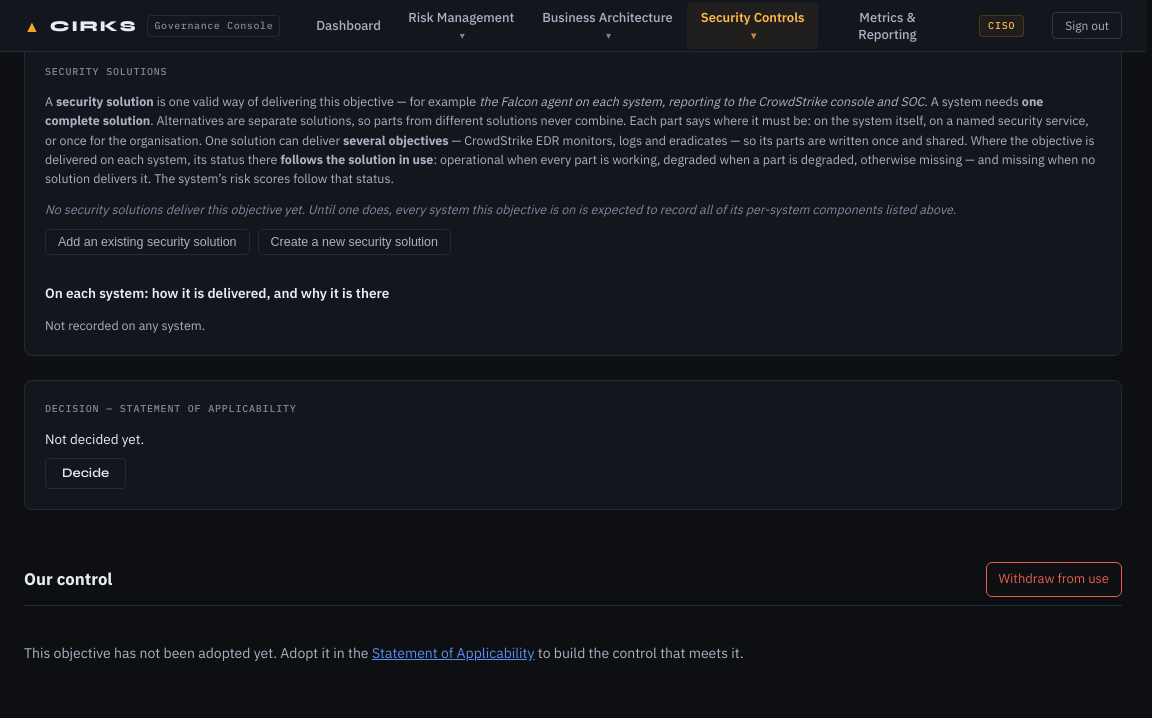
Test: the decision is made on the objective page › deciding it applies sends the decision and relabels the page
(page scrolled)
Click the button "Decide": (86,474) x1=45 y1=458 x2=126 y2=489
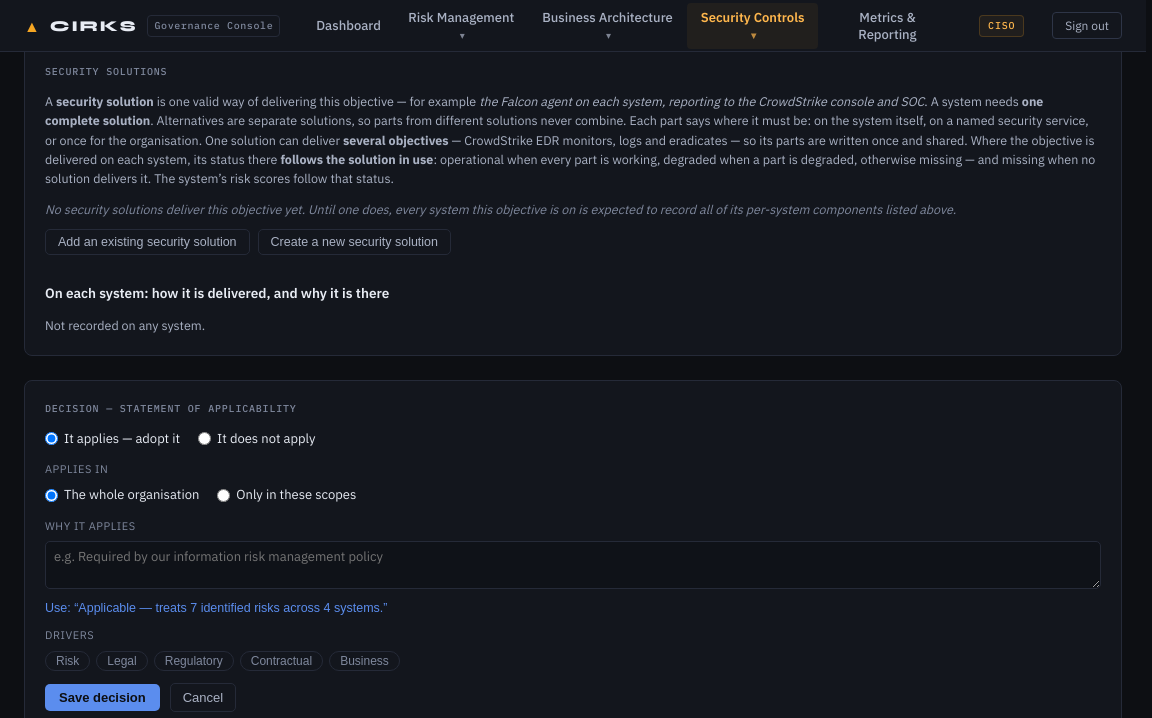
In the text box labelled "Why it applies": (573,565) x1=45 y1=541 x2=1101 y2=589, type "Contract with the bank"
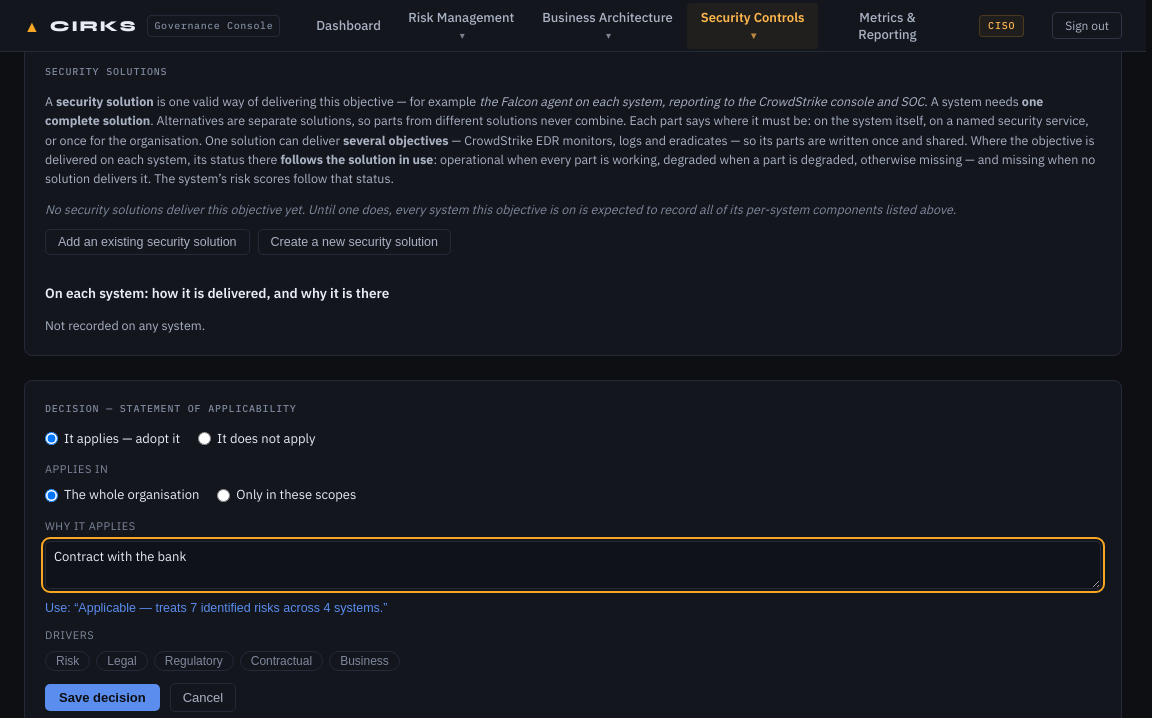
Click the button "contractual": (282,661) x1=240 y1=651 x2=323 y2=671
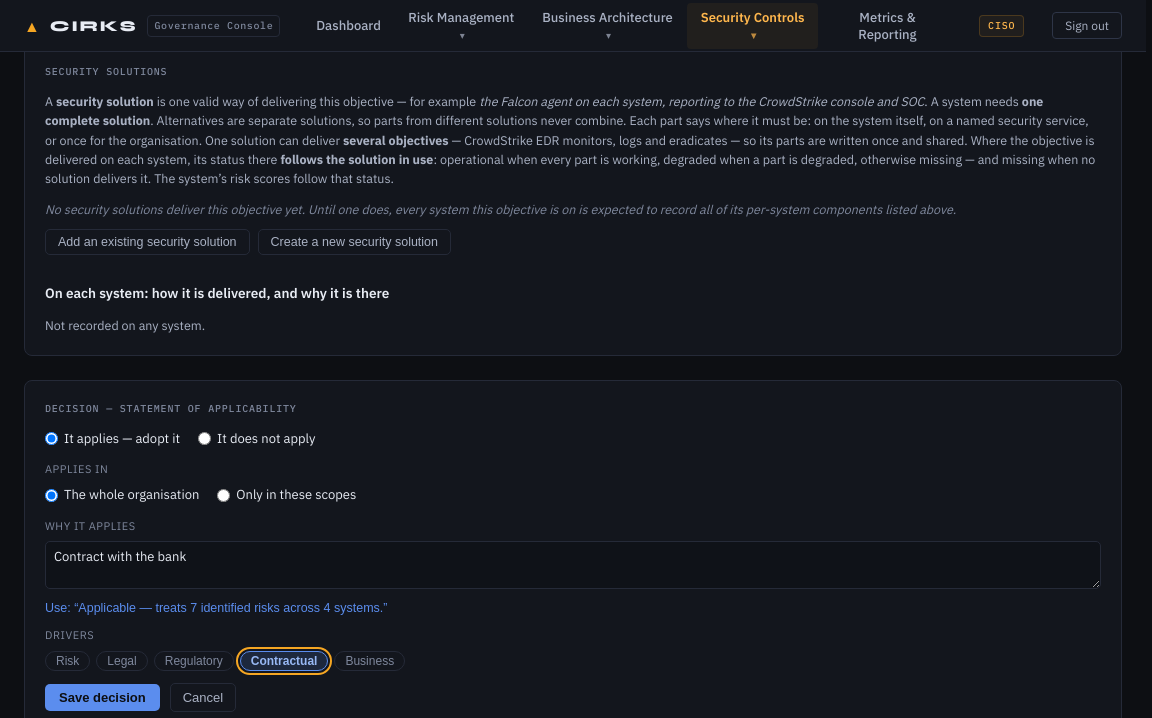
Click the button "Save decision": (102,697) x1=45 y1=684 x2=160 y2=711
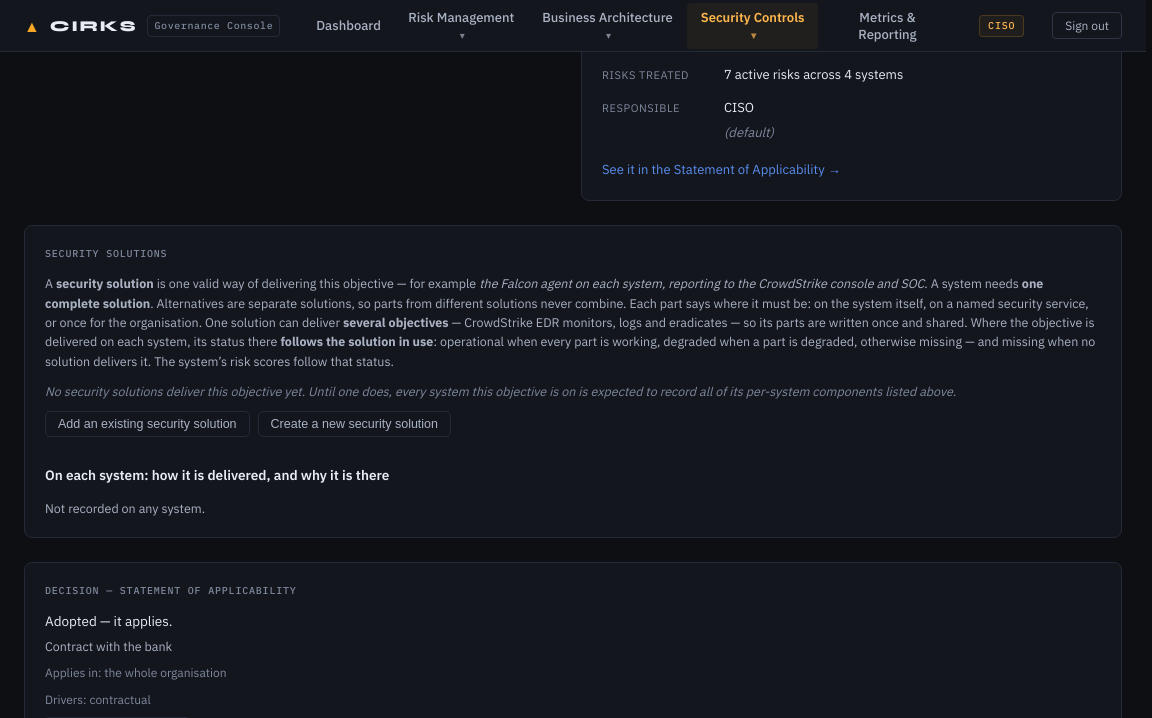
Expected: the text "Adopted — it applies." is shown, x1=45 y1=612 x2=172 y2=630
